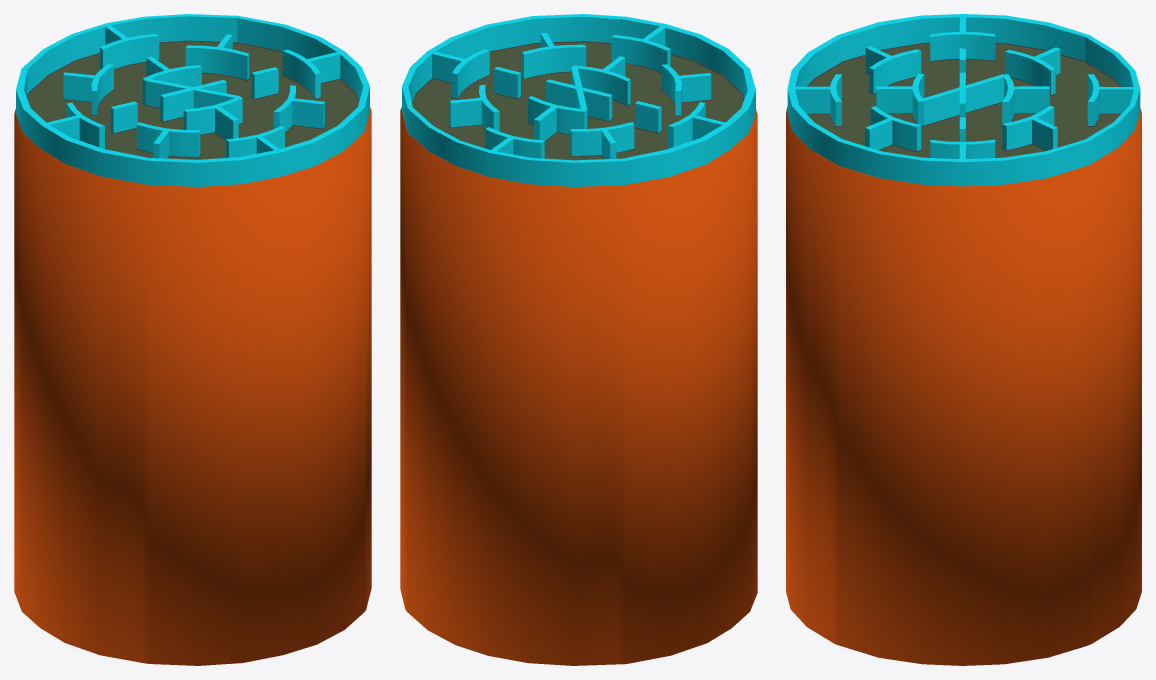
The model's file is Level_8.FBX.
The picture shows the model from 3 angles, left to right: view 1: azimuth 30°, elevation 25°; view 2: azimuth 150°, elevation 25°; view 3: azimuth 270°, elevation 25°; orthographic projection.
Visible parts, largest first — view 1: Base; view 2: Base; view 3: Base.
Boxes of the visible parts, x1=… form: Base: x1=14, y1=14, x2=371, y2=665; Base: x1=400, y1=14, x2=757, y2=665; Base: x1=786, y1=14, x2=1141, y2=665.
Size of the model in its own units: 186 by 291 by 187.
